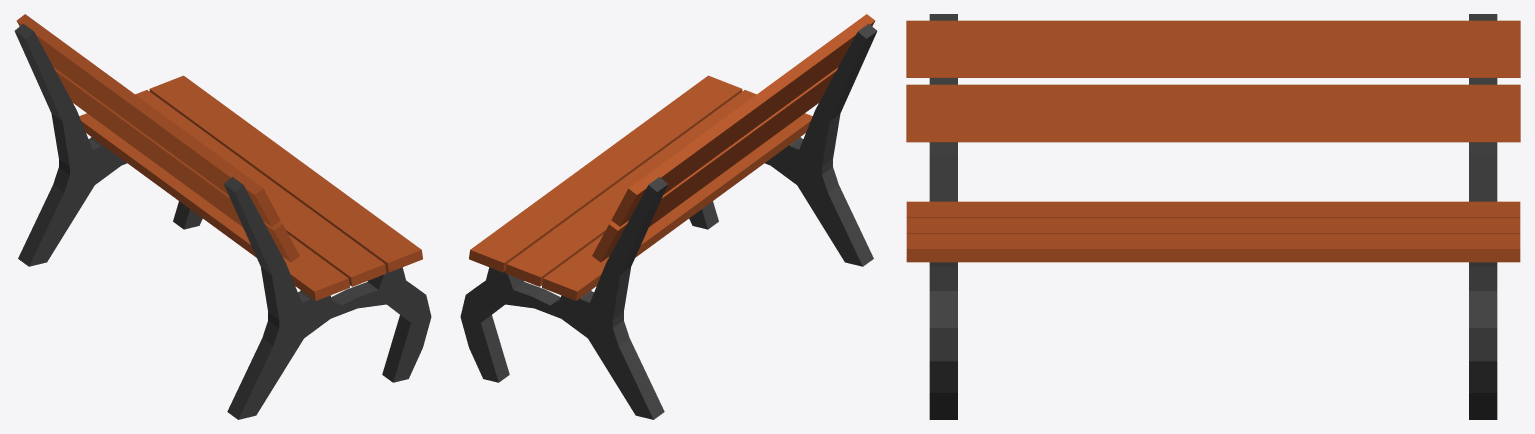
File: bench.fbx
The picture shows the model from 3 angles, left to right: view 1: azimuth 30°, elevation 25°; view 2: azimuth 150°, elevation 25°; view 3: azimuth 270°, elevation 25°; orthographic projection. The views are drawn at different scales.
Visible parts, largest first — view 1: Cube; view 2: Cube; view 3: Cube.
Boxes of the visible parts, box(x1,y1,x2,y2) form: Cube: box(14, 14, 431, 419); Cube: box(460, 14, 877, 419); Cube: box(906, 14, 1520, 419).
Bounding box in the file's own units: 391 × 446 × 821.
